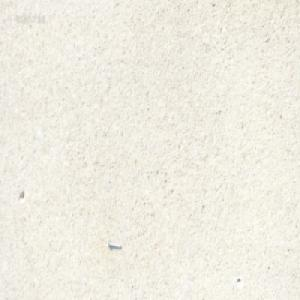Nail: (107, 239, 122, 249)
